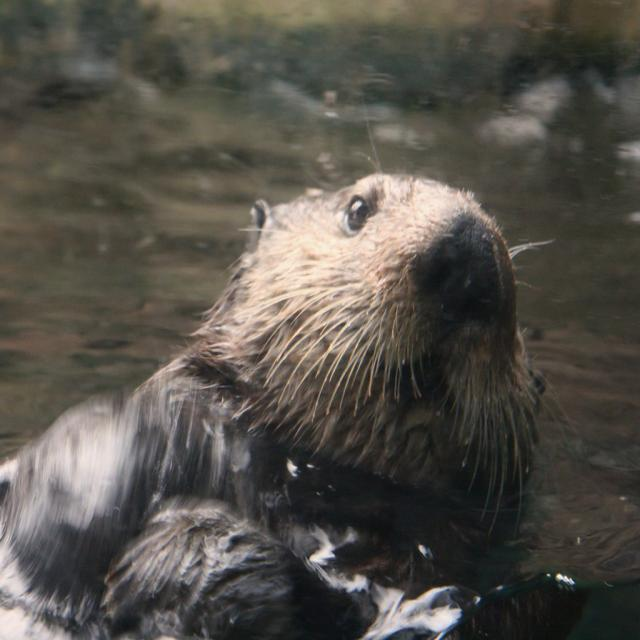otter: (15, 173, 547, 608)
